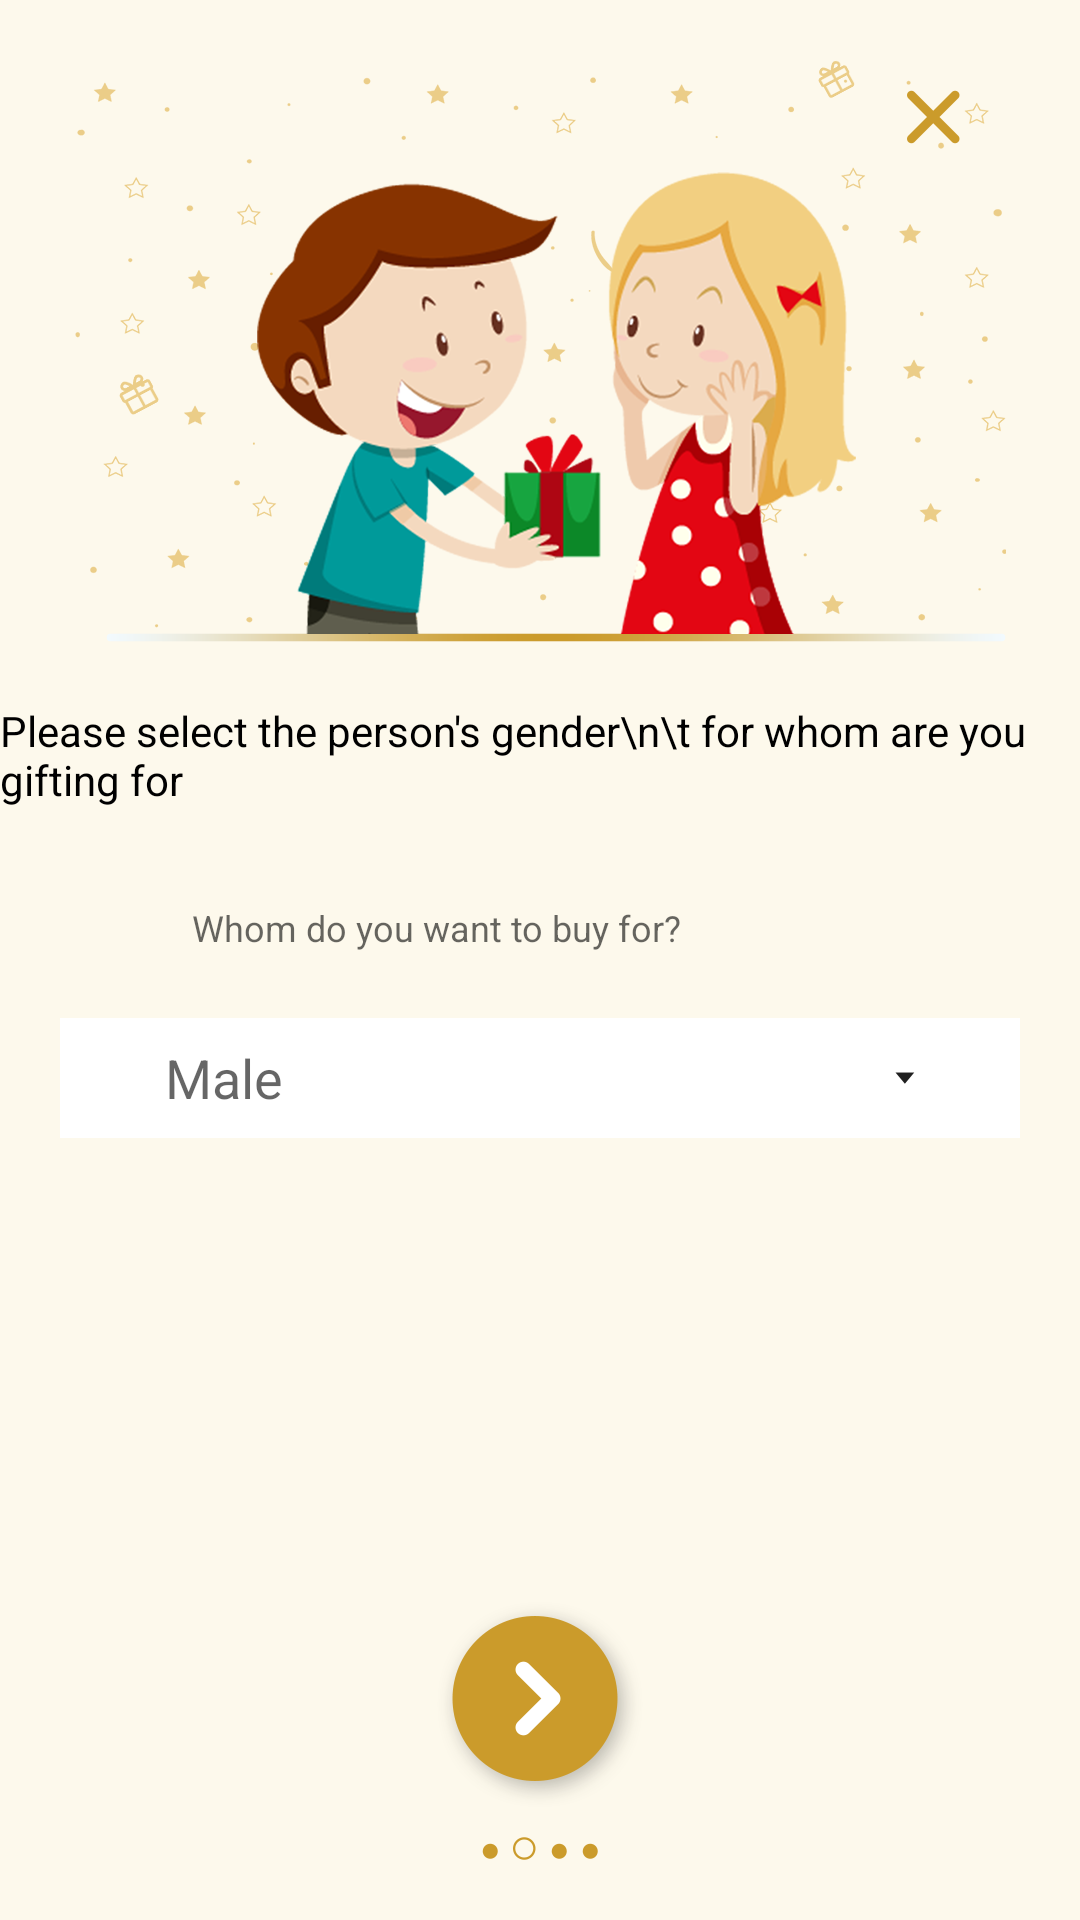

Screen size 1080 × 1920. Icon name, then its box in pixels as (x1, y1, x2, y2):
continuenext: (452, 1616, 625, 1790)
question cross: (907, 90, 960, 144)
